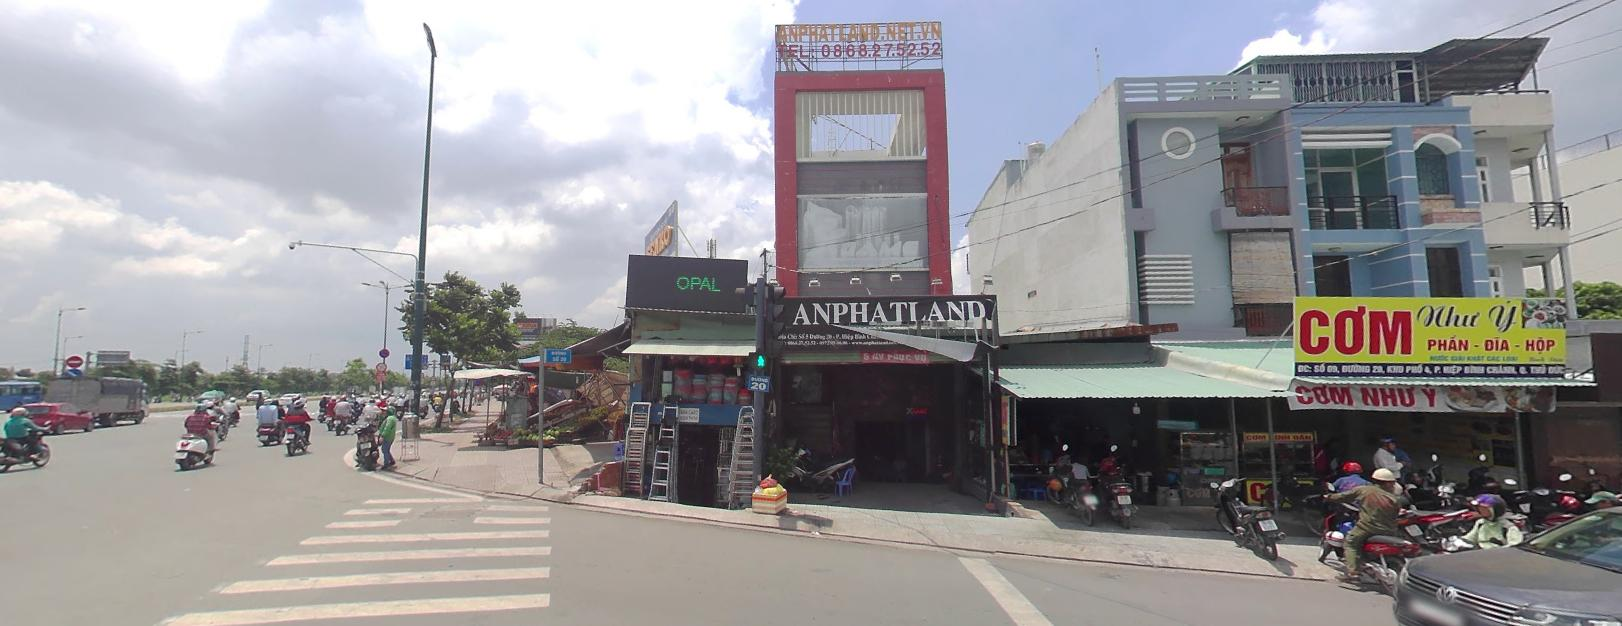Cam con lai: (376, 361, 387, 369)
Cam dung va do: (378, 346, 389, 355), (473, 375, 481, 384)
Cam nguoc chieu: (66, 353, 83, 365)
Hieu lenh: (65, 366, 82, 378)
